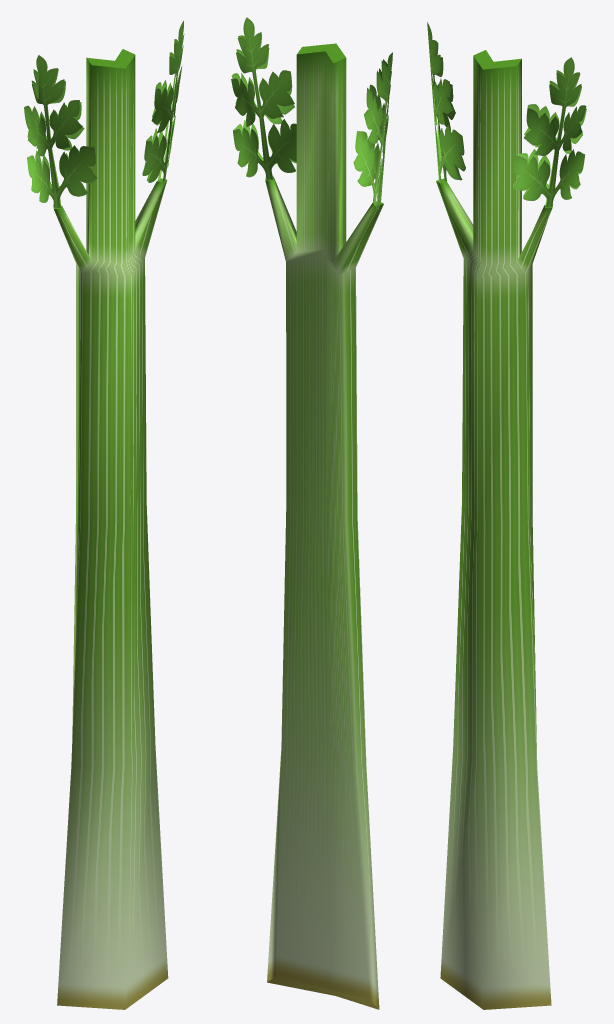
Rendered from Celery.FBX.
3 views of the same model, side by side, from view 1: azimuth 30°, elevation 25°; view 2: azimuth 150°, elevation 25°; view 3: azimuth 330°, elevation 25° (orthographic).
Parts seen in each view (by area): view 1: Celery; view 2: Celery; view 3: Celery.
Boxes of the visible parts, left/top/right/bottom form: Celery: left=24, top=20, right=184, bottom=1009; Celery: left=231, top=17, right=392, bottom=1009; Celery: left=427, top=21, right=586, bottom=1009.
Bounding box in the file's own units: 5.41 × 28.43 × 1.69.
Materials: 1 (1 with a texture image).
